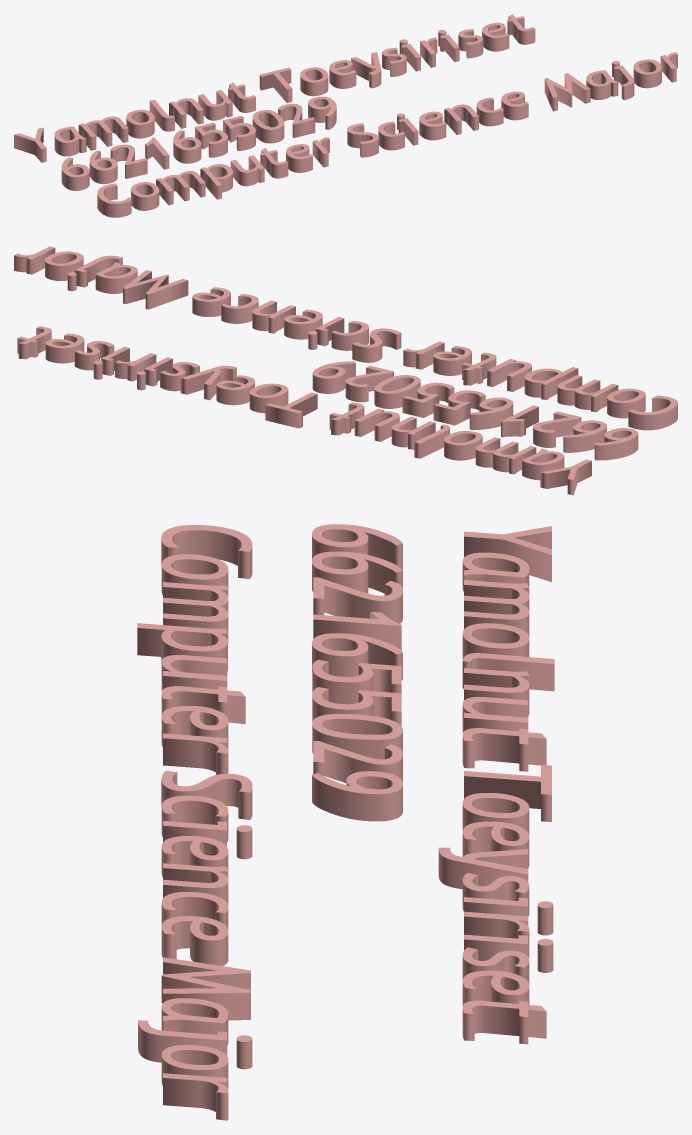
File: name.glb
3 renders of one model, top to bottom at view 1: azimuth 30°, elevation 25°; view 2: azimuth 150°, elevation 25°; view 3: azimuth 270°, elevation 25°, orthographic. The views are drawn at different scales.
Parts seen in each view (by area): view 1: Text; view 2: Text; view 3: Text.
Boxes of the visible parts, bbox=[...] form: Text: bbox=[14, 14, 677, 217]; Text: bbox=[14, 246, 677, 495]; Text: bbox=[137, 524, 554, 1120].
Bounding box in the file's own units: 8.95 × 0.2 × 2.77.
